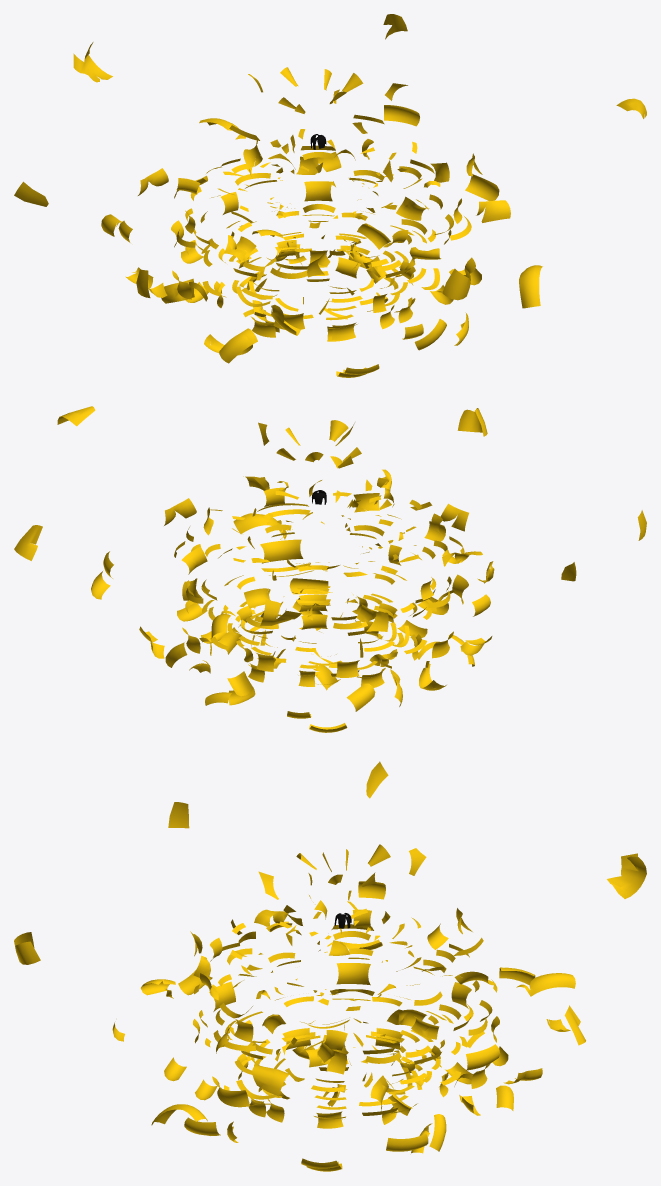
The picture shows the model from 3 angles, top to bottom: view 1: azimuth 30°, elevation 25°; view 2: azimuth 150°, elevation 25°; view 3: azimuth 270°, elevation 25°; orthographic projection. The views are drawn at different scales.
Parts seen in each view (by area): view 1: Torus.006; view 2: Torus.006; view 3: Torus.006.
Part boxes in pixels (x1,y1,x2,y2): Torus.006: (14,14,646,377); Torus.006: (14,406,646,732); Torus.006: (14,761,646,1171).
Size of the model in its own units: 489 by 200 by 437.
